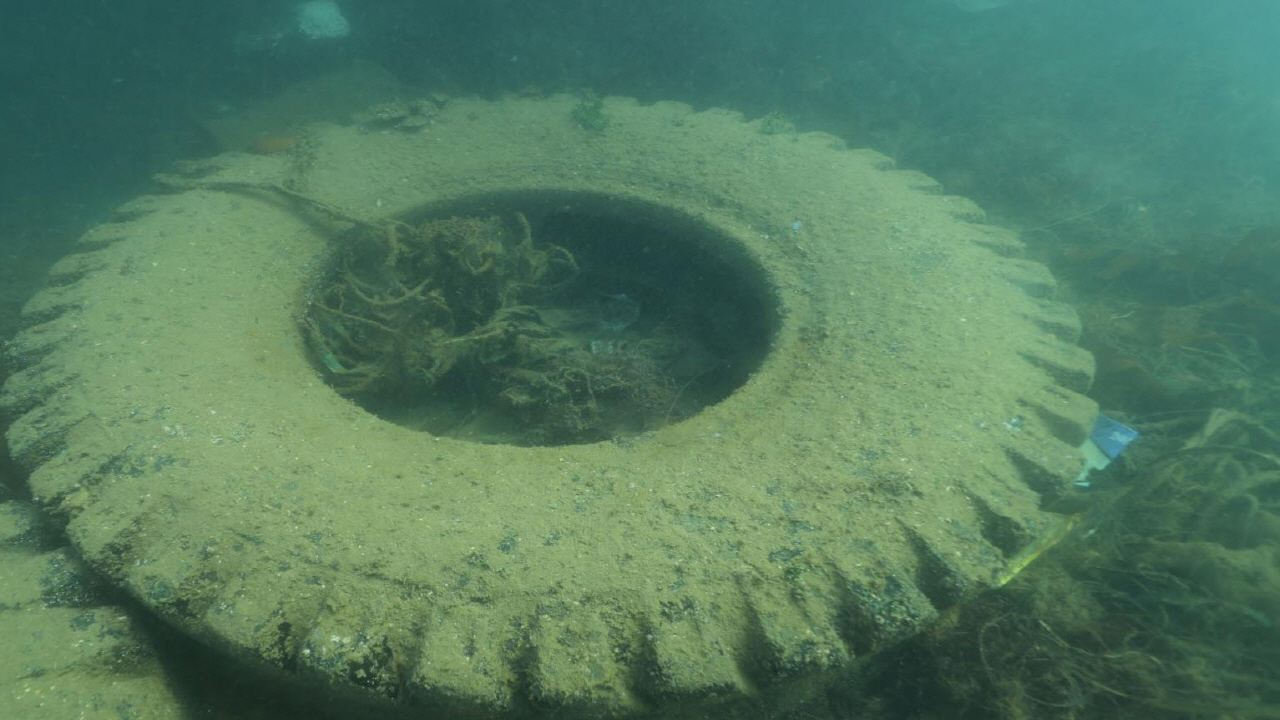bundle of ropes: (135, 167, 599, 413)
tire: (0, 93, 1095, 720)
